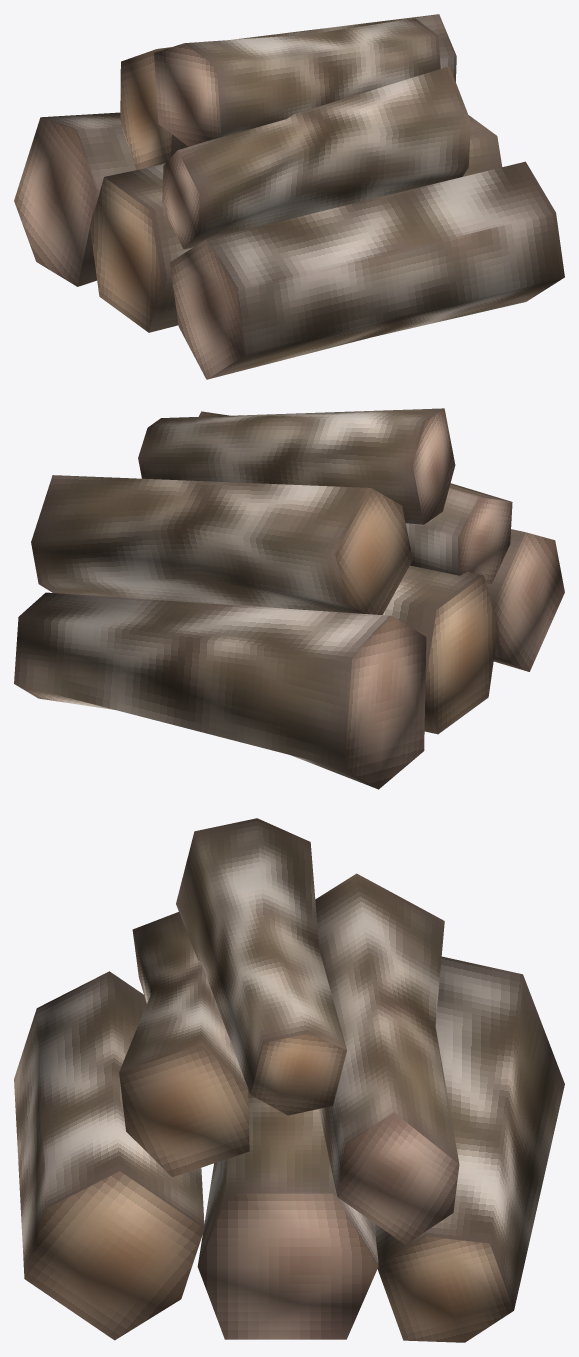
Rendered from FireWood.fbx.
3 renders of one model, top to bottom at view 1: azimuth 30°, elevation 25°; view 2: azimuth 150°, elevation 25°; view 3: azimuth 270°, elevation 25°, orthographic. The views are drawn at different scales.
Parts seen in each view (by area): view 1: fire_wood; view 2: fire_wood; view 3: fire_wood.
Boxes of the visible parts, box(x1,y1,x2,y2) form: fire_wood: box(14, 14, 564, 379); fire_wood: box(14, 408, 564, 789); fire_wood: box(14, 818, 564, 1342).
Bounding box in the file's own units: 0.7688 × 0.578 × 0.8208.
